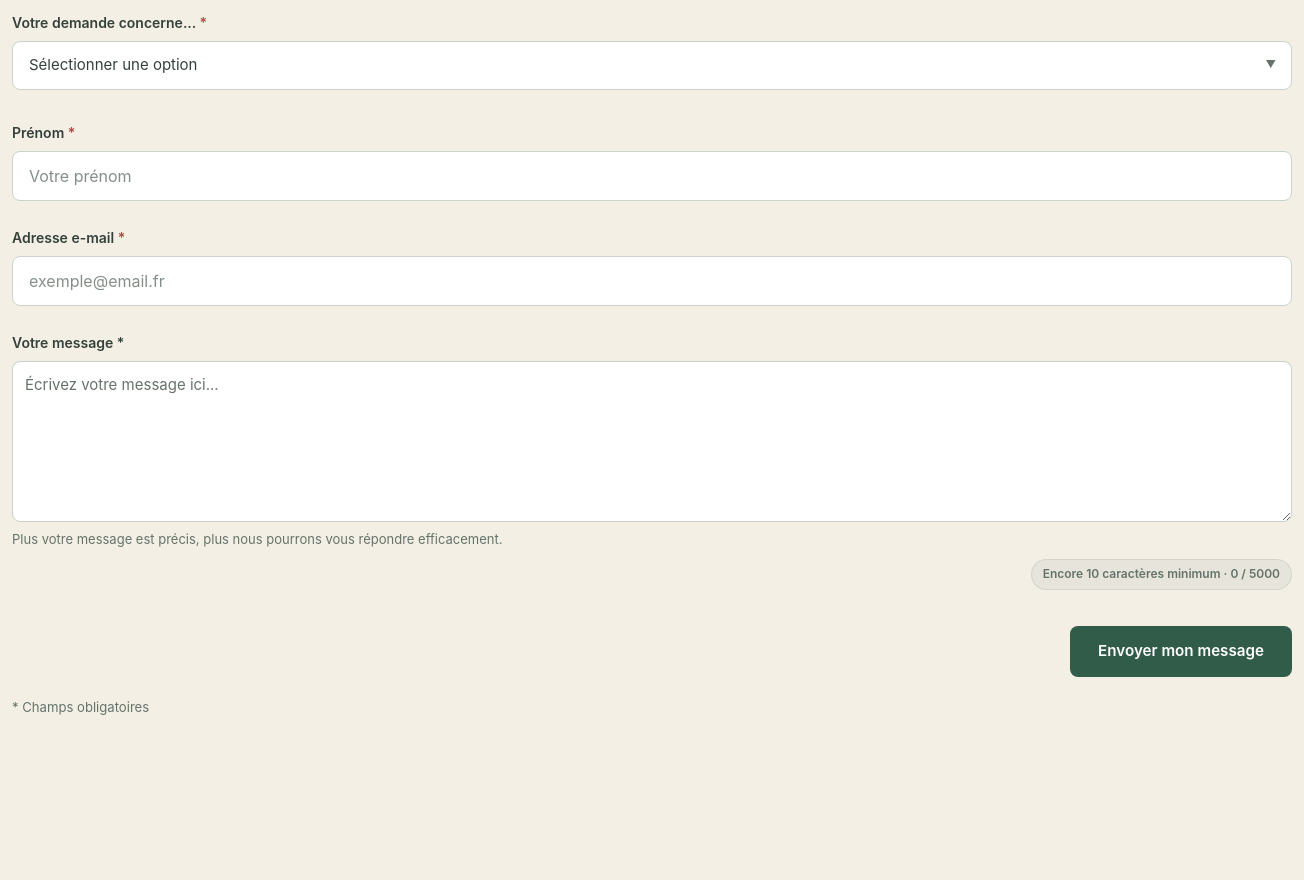
Test: ContactForm › affiche la section de signalement uniquement pour ce motif
Check: the text "Le lieu concerné" is not shown
Select "Signalement pour un lieu de balade" in the dropdown labelled "Votre demande concerne... *" at [652, 65], box [12,41,1292,90]
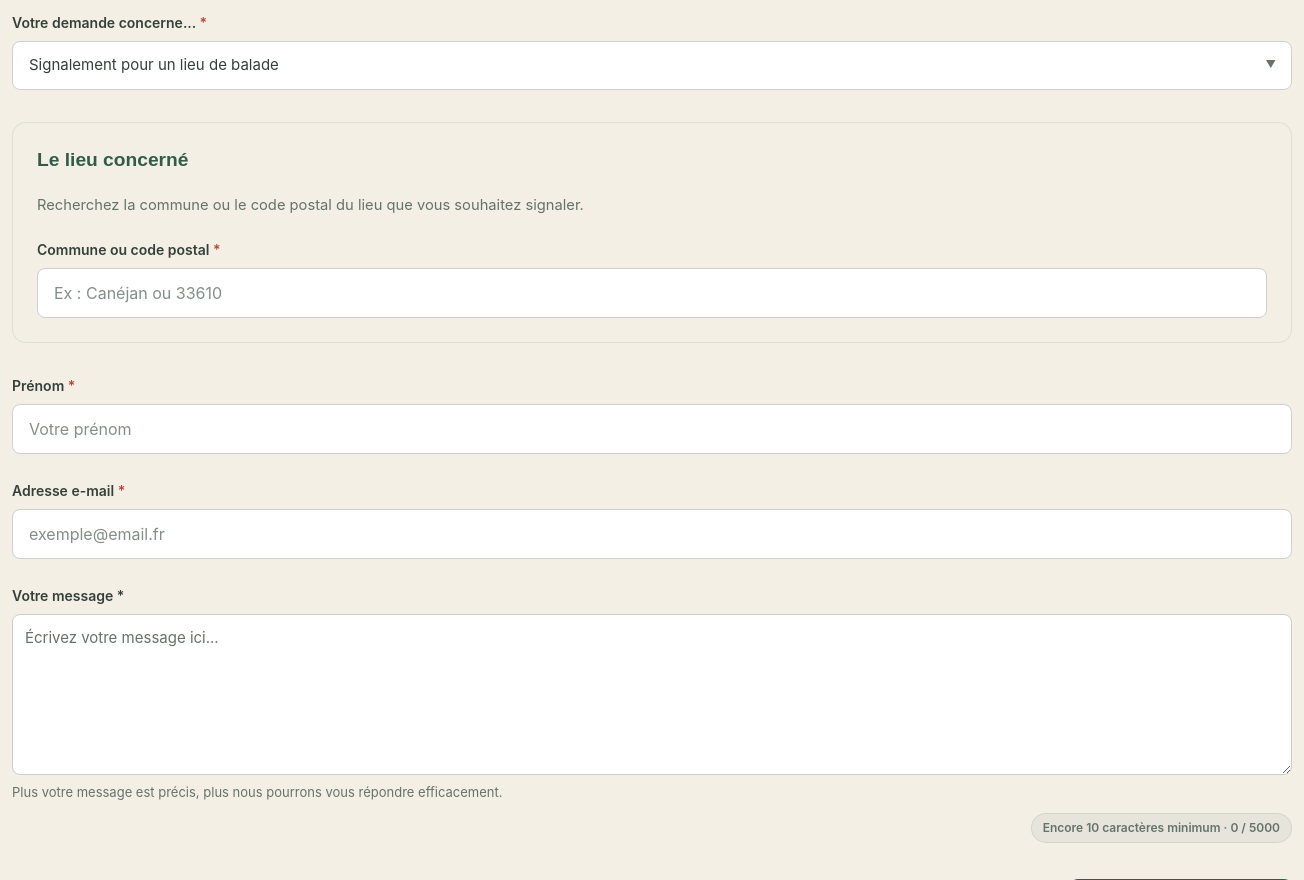
Check: the heading "Le lieu concerné" is shown, box [37,148,188,170]
